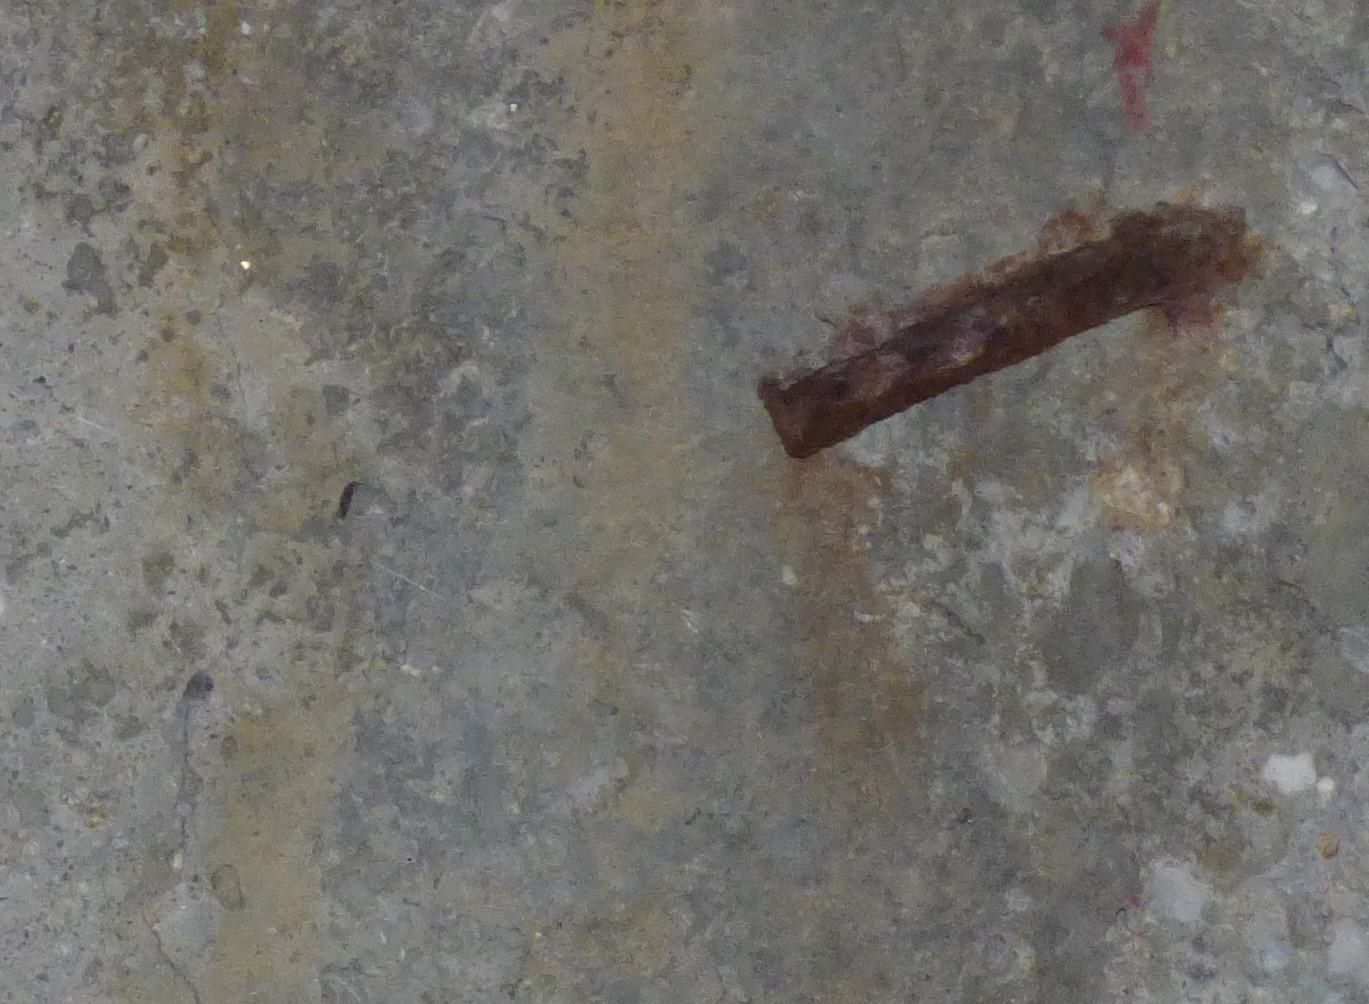Exposed reinforcement: (757, 218, 1223, 460)
